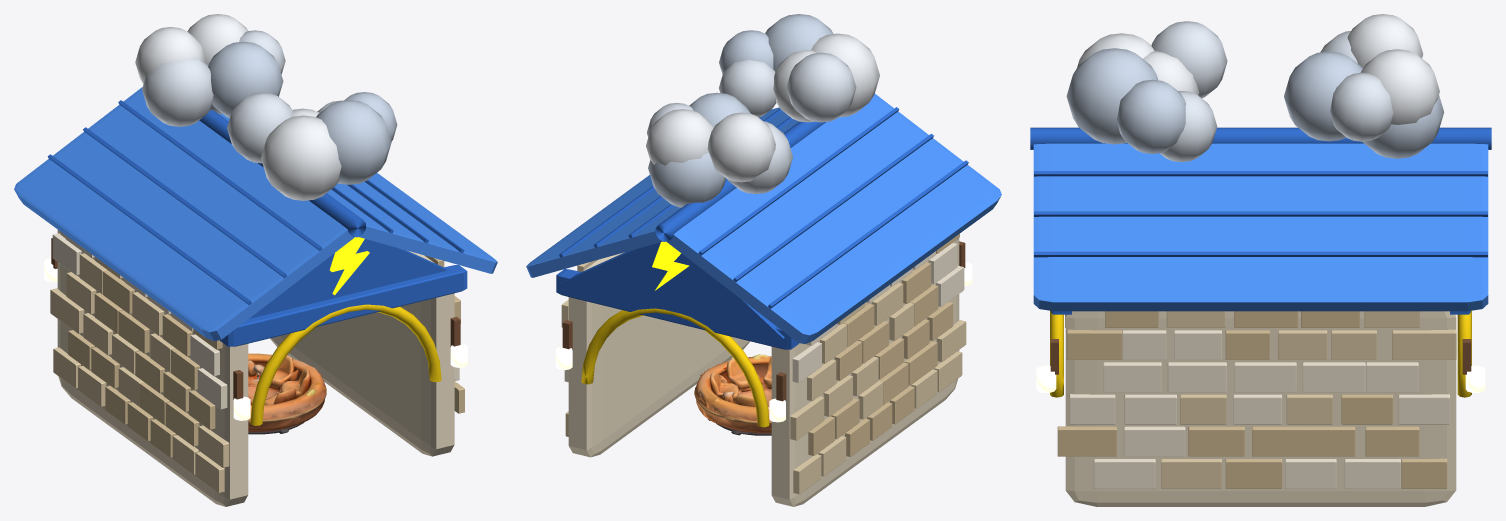
Rendered from duck_fall.glb.
3 renders of one model, left to right at view 1: azimuth 30°, elevation 25°; view 2: azimuth 150°, elevation 25°; view 3: azimuth 270°, elevation 25°, orthographic. The views are drawn at different scales.
Parts seen in each view (by area): view 1: room_toon_4d96ff, room_toon_f3e6cc, room_toon_2f6fd6, room_toon_dcc59c, room_toon_e8d5b0, room_toon_f1f5fa, room_toon_c9d6e8, room_toon_dfe7f2, df_boat, room_toon_ffd60a, room_toon_f8eedb, room_glow_fff3b0 (+2 smaller); view 2: room_toon_4d96ff, room_toon_f3e6cc, room_toon_2f6fd6, room_toon_dcc59c, room_toon_e8d5b0, room_toon_f1f5fa, room_toon_dfe7f2, room_toon_c9d6e8, df_boat, room_toon_ffd60a, room_toon_f8eedb, room_glow_fff3b0 (+2 smaller); view 3: room_toon_4d96ff, room_toon_f8eedb, room_toon_f3e6cc, room_toon_dcc59c, room_toon_c9d6e8, room_toon_2f6fd6, room_toon_e8d5b0, room_toon_dfe7f2, room_toon_f1f5fa, room_toon_ffd60a, room_glow_fff3b0, room_toon_7f5539.
Boxes of the visible parts, x1,y1,x2,y2 form: room_toon_4d96ff: (14,87,497,341); room_toon_f3e6cc: (57,230,454,506); room_toon_2f6fd6: (47,100,467,346); room_toon_dcc59c: (68,255,464,457); room_toon_e8d5b0: (50,253,229,493); room_toon_f1f5fa: (135,14,341,200); room_toon_c9d6e8: (208,41,397,184); room_toon_dfe7f2: (142,30,340,163); df_boat: (248,353,326,434); room_toon_ffd60a: (250,304,441,425); room_toon_f8eedb: (52,233,459,409); room_glow_fff3b0: (44,258,467,420); room_toon_4d96ff: (526,93,1001,344); room_toon_f3e6cc: (568,238,959,506); room_toon_2f6fd6: (556,107,968,349); room_toon_dcc59c: (565,233,959,456); room_toon_e8d5b0: (561,260,966,494); room_toon_f1f5fa: (646,33,879,182); room_toon_dfe7f2: (647,52,856,193); room_toon_c9d6e8: (648,14,833,207); df_boat: (694,354,771,435); room_toon_ffd60a: (581,308,769,427); room_toon_f8eedb: (564,243,964,382); room_glow_fff3b0: (555,262,972,422); room_toon_4d96ff: (1033,143,1488,311); room_toon_f8eedb: (1069,330,1449,488); room_toon_f3e6cc: (1065,311,1456,506); room_toon_dcc59c: (1057,311,1447,488); room_toon_c9d6e8: (1066,48,1444,158); room_toon_2f6fd6: (1030,127,1491,314); room_toon_e8d5b0: (1065,311,1456,488); room_toon_dfe7f2: (1151,21,1393,161); room_toon_f1f5fa: (1077,14,1439,124); room_toon_ffd60a: (1050,310,1471,397); room_glow_fff3b0: (1036,365,1485,392); room_toon_7f5539: (1050,339,1471,374).
Bounding box in the file's own units: 5.38 × 6.37 × 6.5.
Materials: 14 (1 with a texture image).
